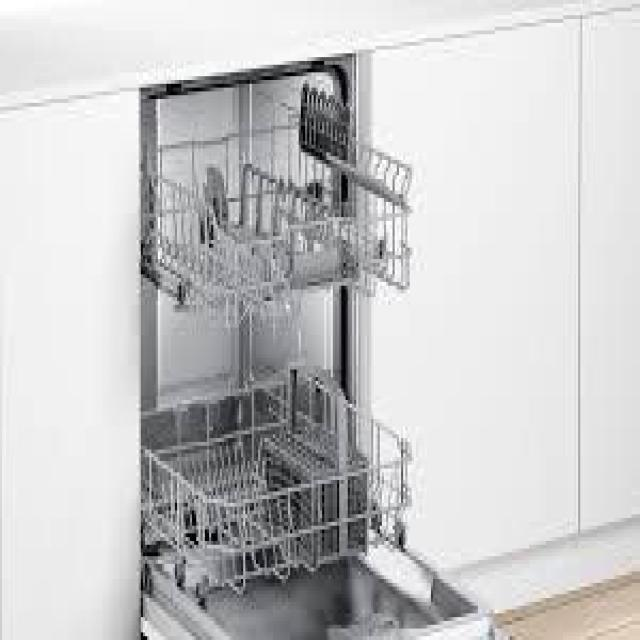dishwasher: (137, 42, 514, 636)
